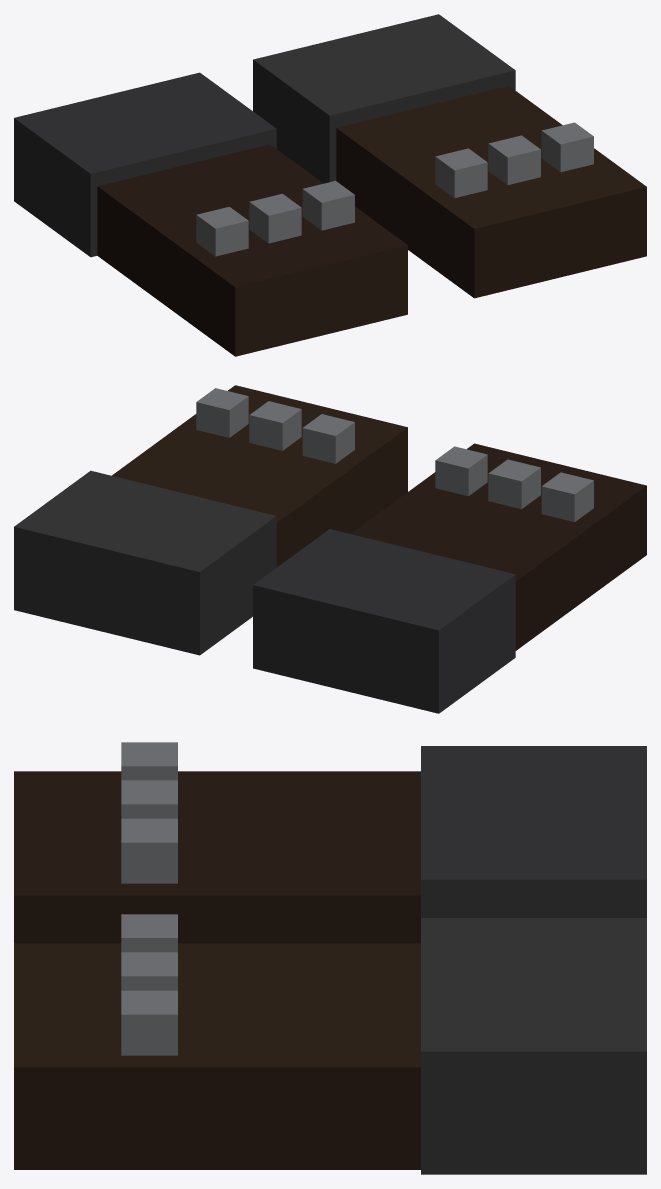
The model's file is iron_gloves.glb.
3 views of the same model, one above another, from view 1: azimuth 30°, elevation 25°; view 2: azimuth 150°, elevation 25°; view 3: azimuth 270°, elevation 25° (orthographic). The views are drawn at different scales.
Parts seen in each view (by area): view 1: IronGloves; view 2: IronGloves; view 3: IronGloves.
Boxes of the visible parts, x1,y1,x2,y2 form: IronGloves: [14, 14, 646, 356]; IronGloves: [14, 385, 646, 713]; IronGloves: [14, 742, 646, 1174].
Bounding box in the file's own units: 0.32 × 0.07 × 0.28.
